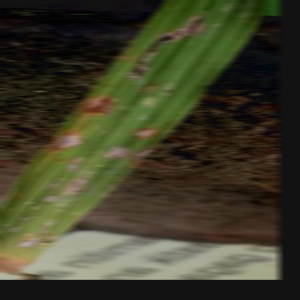Brown_Spot: (126, 7, 207, 76), (45, 123, 88, 155), (100, 137, 143, 166), (79, 87, 113, 120), (127, 116, 156, 147)
